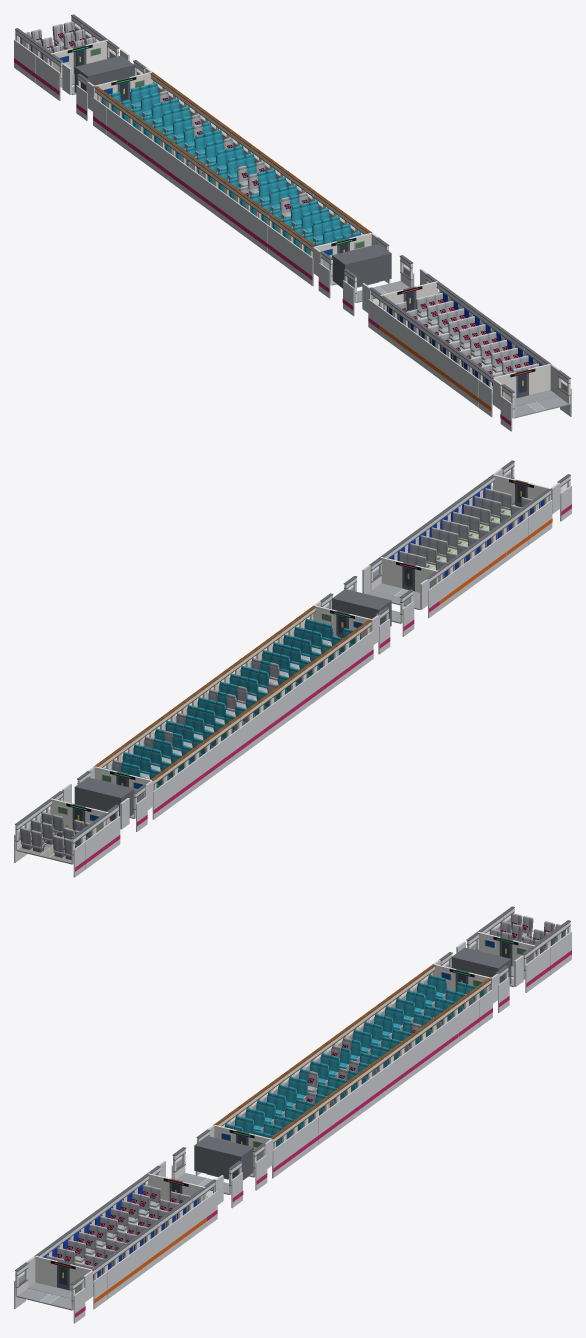
Rendered from car_ekonomiTosca.glb.
3 renders of one model, top to bottom at view 1: azimuth 30°, elevation 25°; view 2: azimuth 150°, elevation 25°; view 3: azimuth 330°, elevation 25°, orthographic.
Visible parts, largest first — view 1: global_st_0, car_st_35, car_st_41, global_st_1, car_st_37, car_st_5, car_st_36, car_st_38, car_st_51, car_st_4, car_st_42, car_st_12 (+35 smaller); view 2: global_st_1, car_st_8, global_st_0, car_st_38, car_st_39, car_st_5, car_st_11, car_st_37, car_st_41, car_st_42, car_st_15, car_st_6 (+35 smaller); view 3: global_st_0, car_st_35, car_st_41, global_st_1, car_st_37, car_st_5, car_st_36, car_st_38, car_st_51, car_st_4, car_st_42, car_st_12 (+35 smaller).
Boxes of the visible parts, bbox=[...] form: global_st_0: bbox=[332, 244, 391, 288]; car_st_35: bbox=[500, 370, 571, 431]; car_st_41: bbox=[342, 255, 414, 316]; global_st_1: bbox=[74, 55, 134, 92]; car_st_37: bbox=[493, 364, 550, 400]; car_st_5: bbox=[50, 39, 107, 74]; car_st_36: bbox=[493, 364, 559, 409]; car_st_38: bbox=[380, 281, 438, 311]; car_st_51: bbox=[379, 281, 451, 344]; car_st_4: bbox=[49, 40, 119, 100]; car_st_42: bbox=[478, 354, 551, 417]; car_st_12: bbox=[94, 72, 151, 102]; global_st_1: bbox=[74, 777, 134, 820]; car_st_8: bbox=[14, 816, 85, 877]; global_st_0: bbox=[332, 589, 391, 626]; car_st_38: bbox=[380, 557, 437, 592]; car_st_39: bbox=[369, 557, 439, 618]; car_st_5: bbox=[50, 798, 107, 832]; car_st_11: bbox=[314, 605, 371, 638]; car_st_37: bbox=[493, 474, 550, 507]; car_st_41: bbox=[343, 576, 414, 636]; car_st_42: bbox=[479, 474, 552, 537]; car_st_15: bbox=[300, 605, 373, 668]; car_st_6: bbox=[36, 799, 109, 861]; global_st_0: bbox=[194, 1136, 253, 1180]; car_st_35: bbox=[14, 1262, 85, 1323]; car_st_41: bbox=[171, 1147, 243, 1208]; global_st_1: bbox=[451, 947, 511, 984]; car_st_37: bbox=[35, 1256, 92, 1292]; car_st_5: bbox=[478, 931, 535, 966]; car_st_36: bbox=[26, 1256, 92, 1301]; car_st_38: bbox=[147, 1173, 205, 1203]; car_st_51: bbox=[134, 1173, 206, 1236]; car_st_4: bbox=[466, 932, 536, 992]; car_st_42: bbox=[34, 1246, 107, 1309]; car_st_12: bbox=[434, 964, 491, 994].
Bounding box in the file's own units: 3.39 × 2.07 × 47.94.
Materials: 51 (10 with a texture image).
